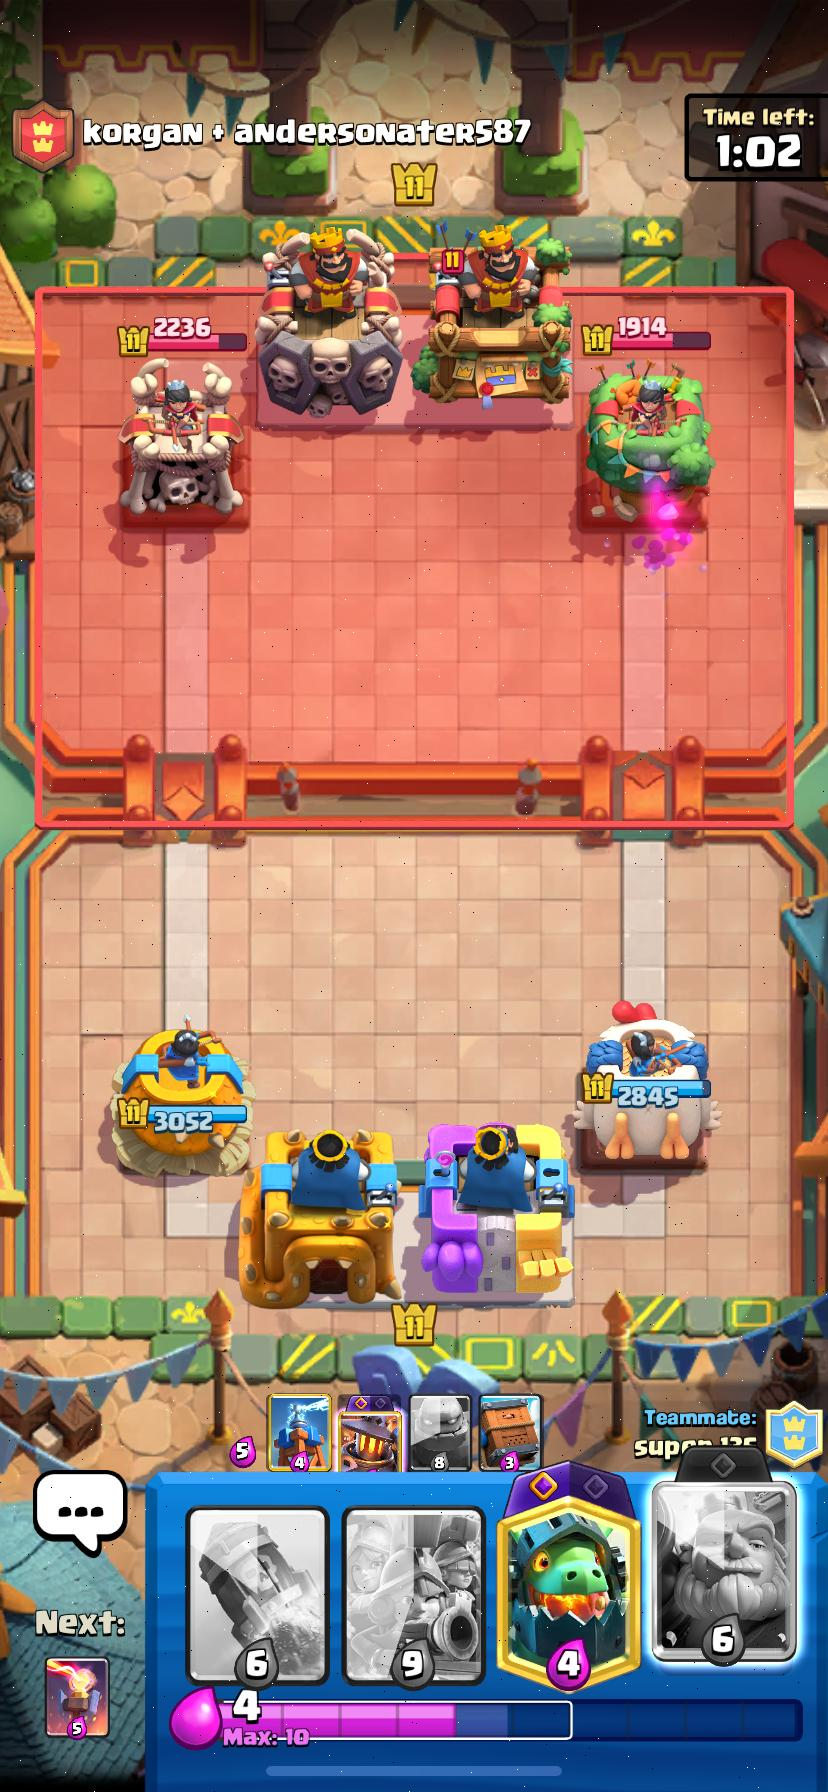EKingTower: (412, 225, 571, 405), (255, 229, 403, 417)
EnemyPrincessTower: (586, 362, 714, 520), (119, 358, 242, 514)
OwnKingTower: (240, 1129, 401, 1306), (419, 1123, 573, 1301)
OwnPrincessTower: (576, 1002, 711, 1165), (113, 1019, 253, 1175)
